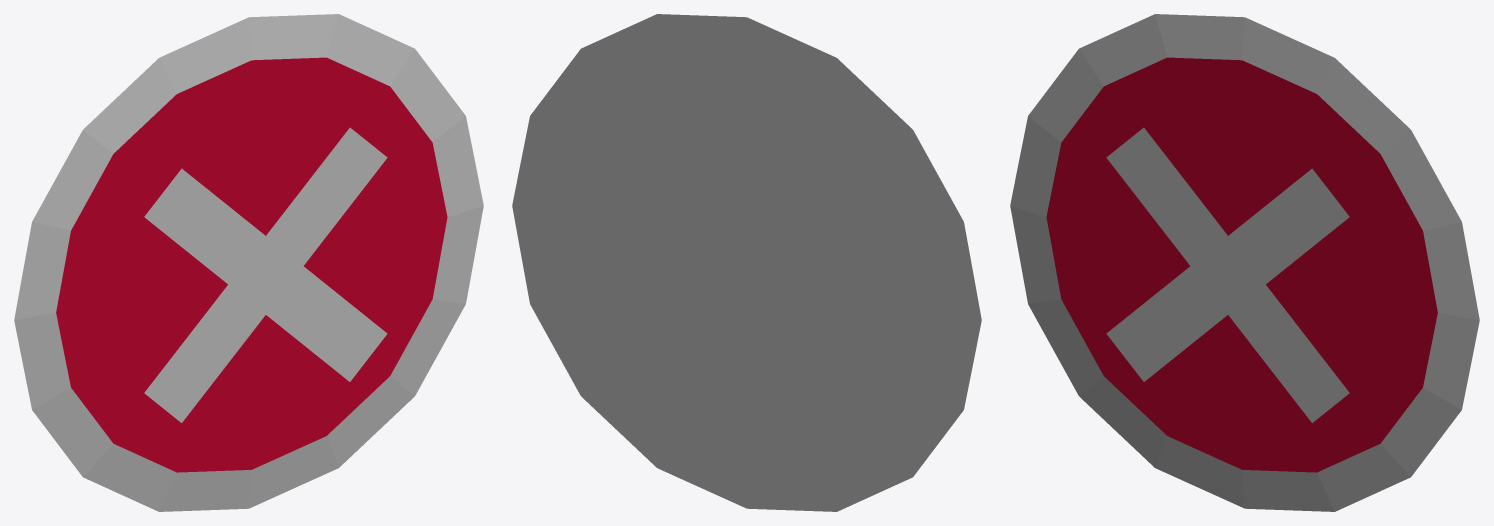
The model's file is bubble_cancel.dae.
3 views of the same model, side by side, from view 1: azimuth 30°, elevation 25°; view 2: azimuth 150°, elevation 25°; view 3: azimuth 330°, elevation 25° (orthographic).
Parts seen in each view (by area): view 1: cancel; view 2: cancel; view 3: cancel.
Part boxes in pixels (x1,y1,x2,y2): cancel: (14,14,483,511); cancel: (512,14,981,511); cancel: (1010,14,1479,511).
Size of the model in its own units: 0.1579 by 0.00984 by 0.1579.
